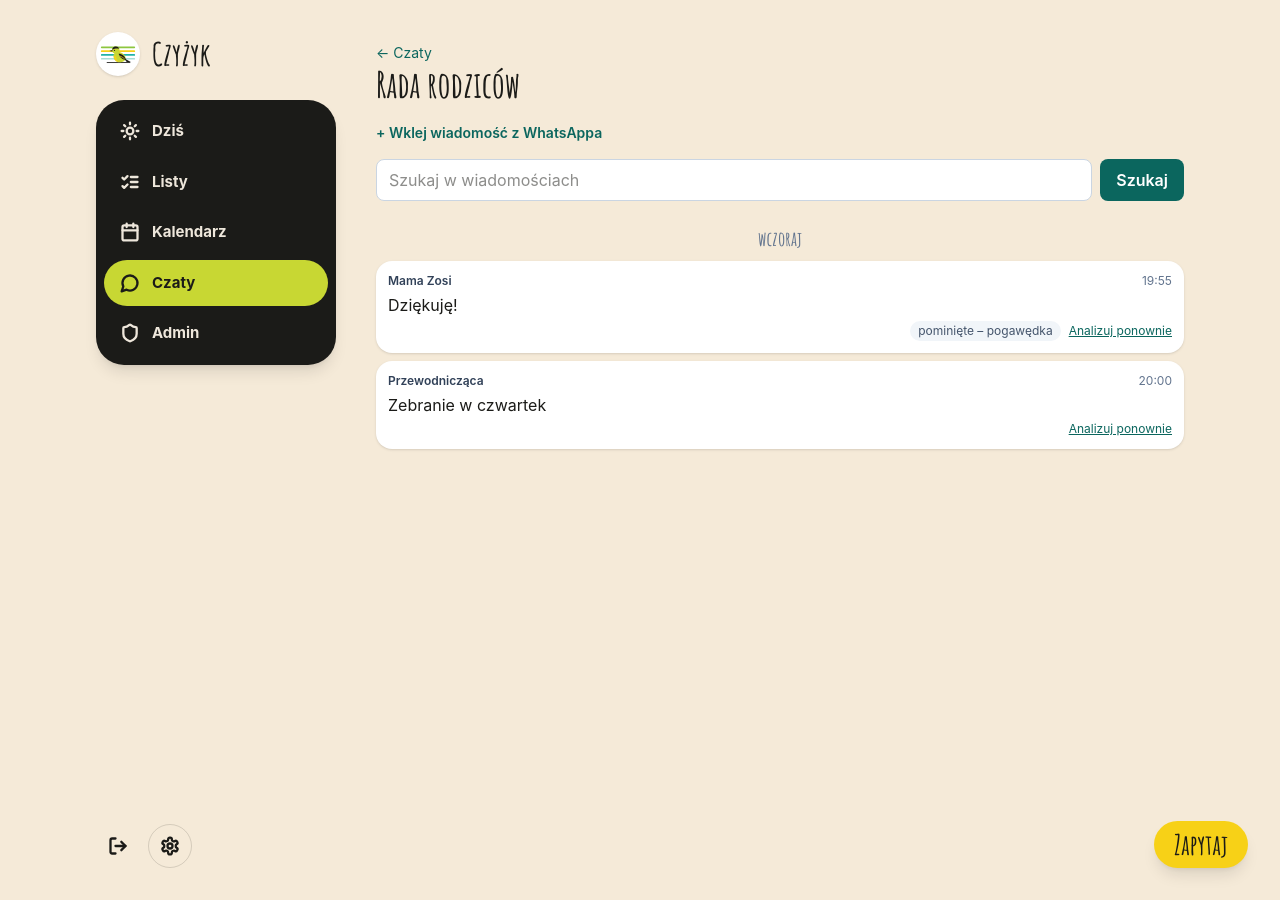
Test: Czaty › po kliknięciu wiadomości: werdykt, sprawy z niej i (dla admina) wywołania modelu
This screenshot has width=1280, height=900.
Click the text "Zebranie w czwartek" at (467,405), box [388, 395, 546, 415]
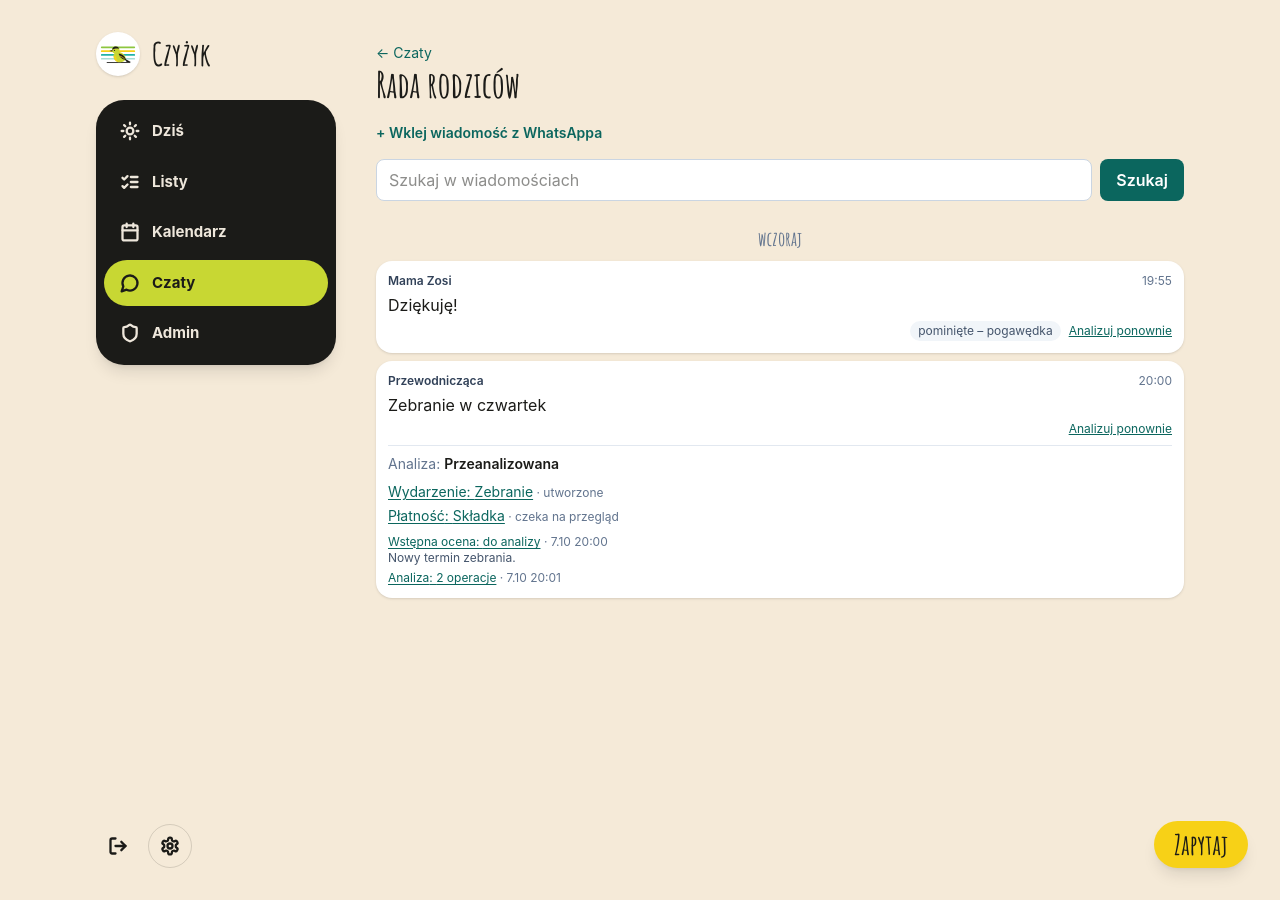
Now the text "· utworzone" is shown, box [533, 485, 604, 500]
Now the text "Nowy termin zebrania." is shown, box [388, 550, 516, 565]
Now the link "Analiza: 2 operacje" is shown, box [388, 570, 496, 585]
// A skipped chatter message: its verdict, no items.
Click the text "Dziękuję!" at (423,305), box [388, 295, 458, 315]
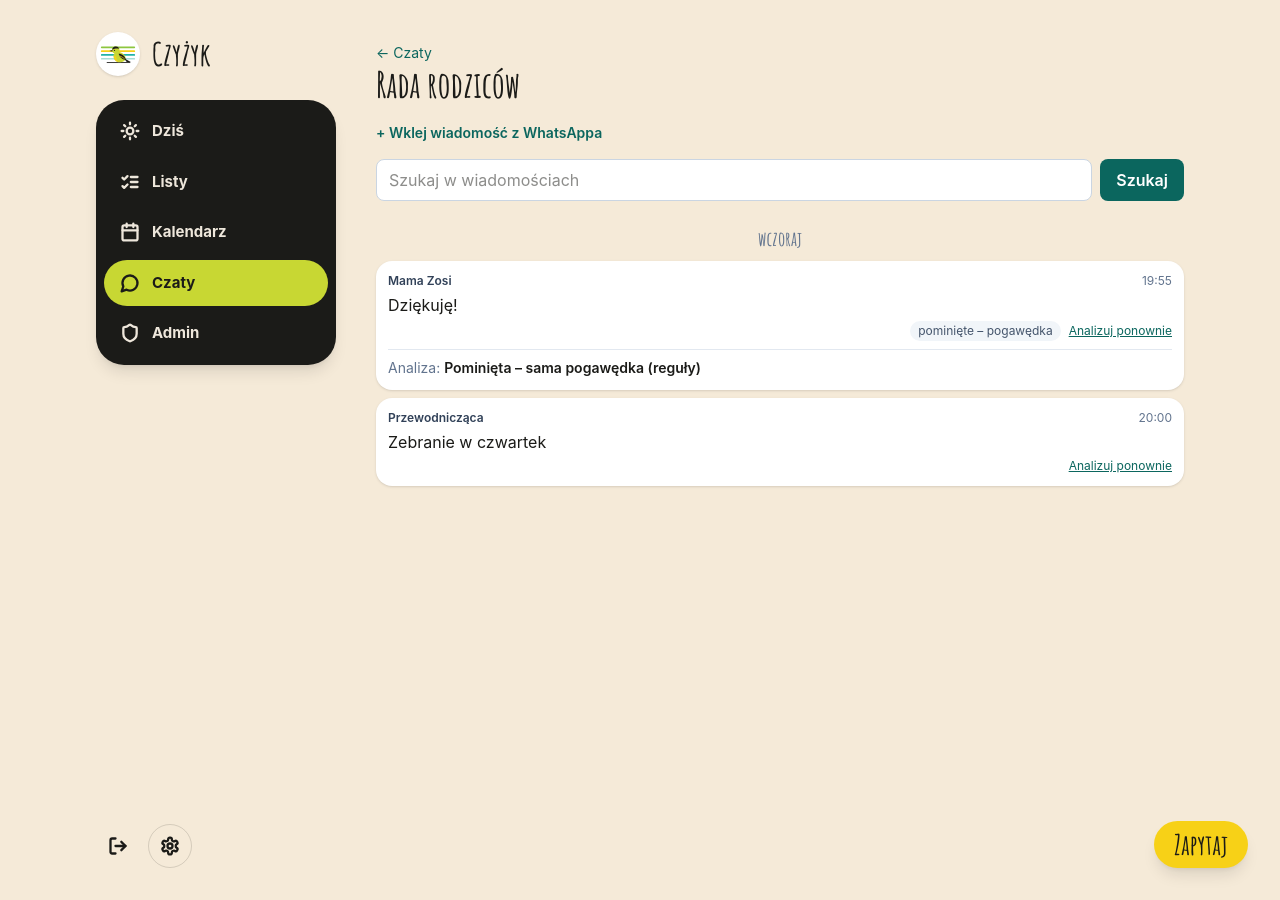
Now the text "Pominięta – sama pogawędka (reguły)" is shown, box [444, 359, 701, 376]
